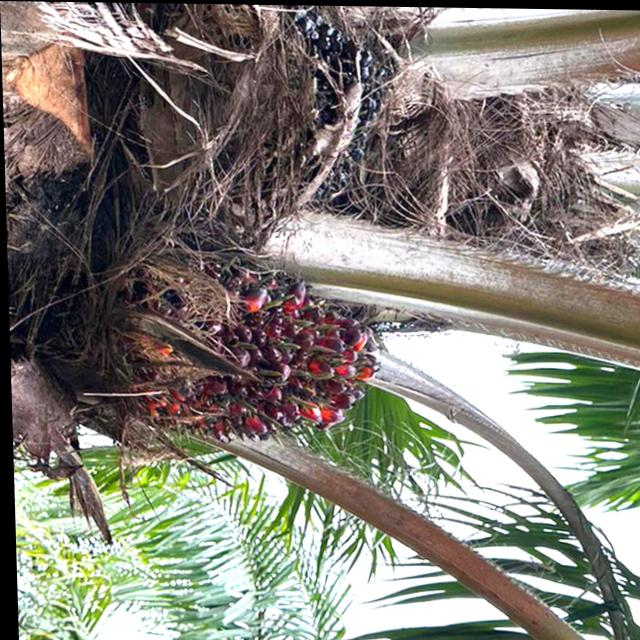ripe: (107, 242, 395, 459)
